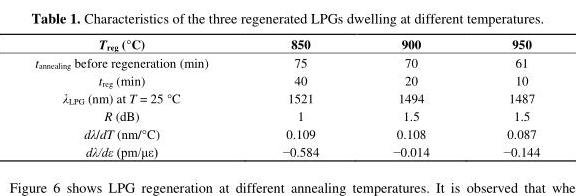table: (34, 34, 539, 159)
table column: (34, 34, 244, 159), (244, 34, 355, 159), (355, 34, 465, 159), (465, 34, 539, 159)
table column header: (34, 34, 539, 52)
table row: (34, 34, 539, 52), (34, 52, 539, 70), (34, 70, 539, 88), (34, 88, 539, 106), (34, 106, 539, 124), (34, 141, 539, 159), (34, 124, 539, 141)
